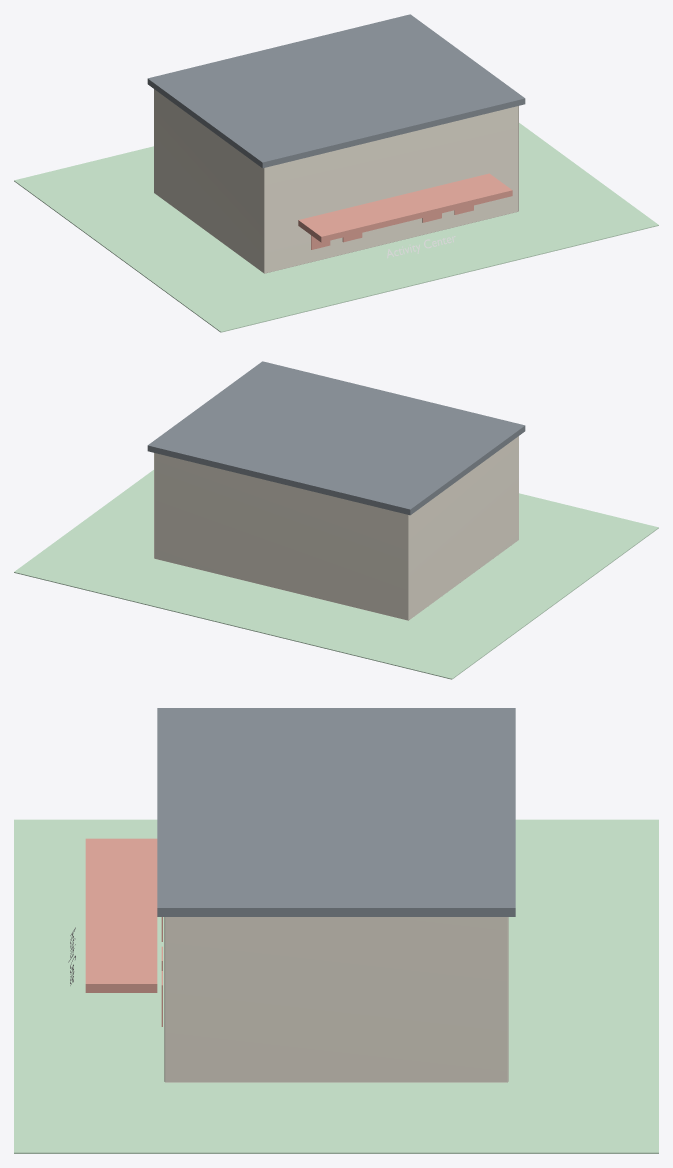
File: activity_center.glb
The picture shows the model from 3 angles, top to bottom: view 1: azimuth 30°, elevation 25°; view 2: azimuth 150°, elevation 25°; view 3: azimuth 270°, elevation 25°; orthographic projection. The views are drawn at different scales.
Visible parts, largest first — view 1: activitycenter.001_base_tile, activity_center_body, activity_center_roof, activity_center_big_canopy; view 2: activitycenter.001_base_tile, activity_center_body, activity_center_roof; view 3: activitycenter.001_base_tile, activity_center_roof, activity_center_body, activity_center_big_canopy.
Part boxes in pixels (x1,y1,x2,y2): activitycenter.001_base_tile: [14, 123, 658, 332]; activity_center_body: [154, 89, 518, 273]; activity_center_roof: [147, 14, 525, 168]; activity_center_big_canopy: [298, 173, 512, 242]; activitycenter.001_base_tile: [14, 470, 658, 679]; activity_center_body: [154, 436, 518, 620]; activity_center_roof: [147, 361, 525, 515]; activitycenter.001_base_tile: [14, 819, 658, 1153]; activity_center_roof: [157, 708, 515, 916]; activity_center_body: [164, 917, 508, 1082]; activity_center_big_canopy: [85, 838, 157, 992].
Size of the model in its own units: 55 by 13.81 by 45.
